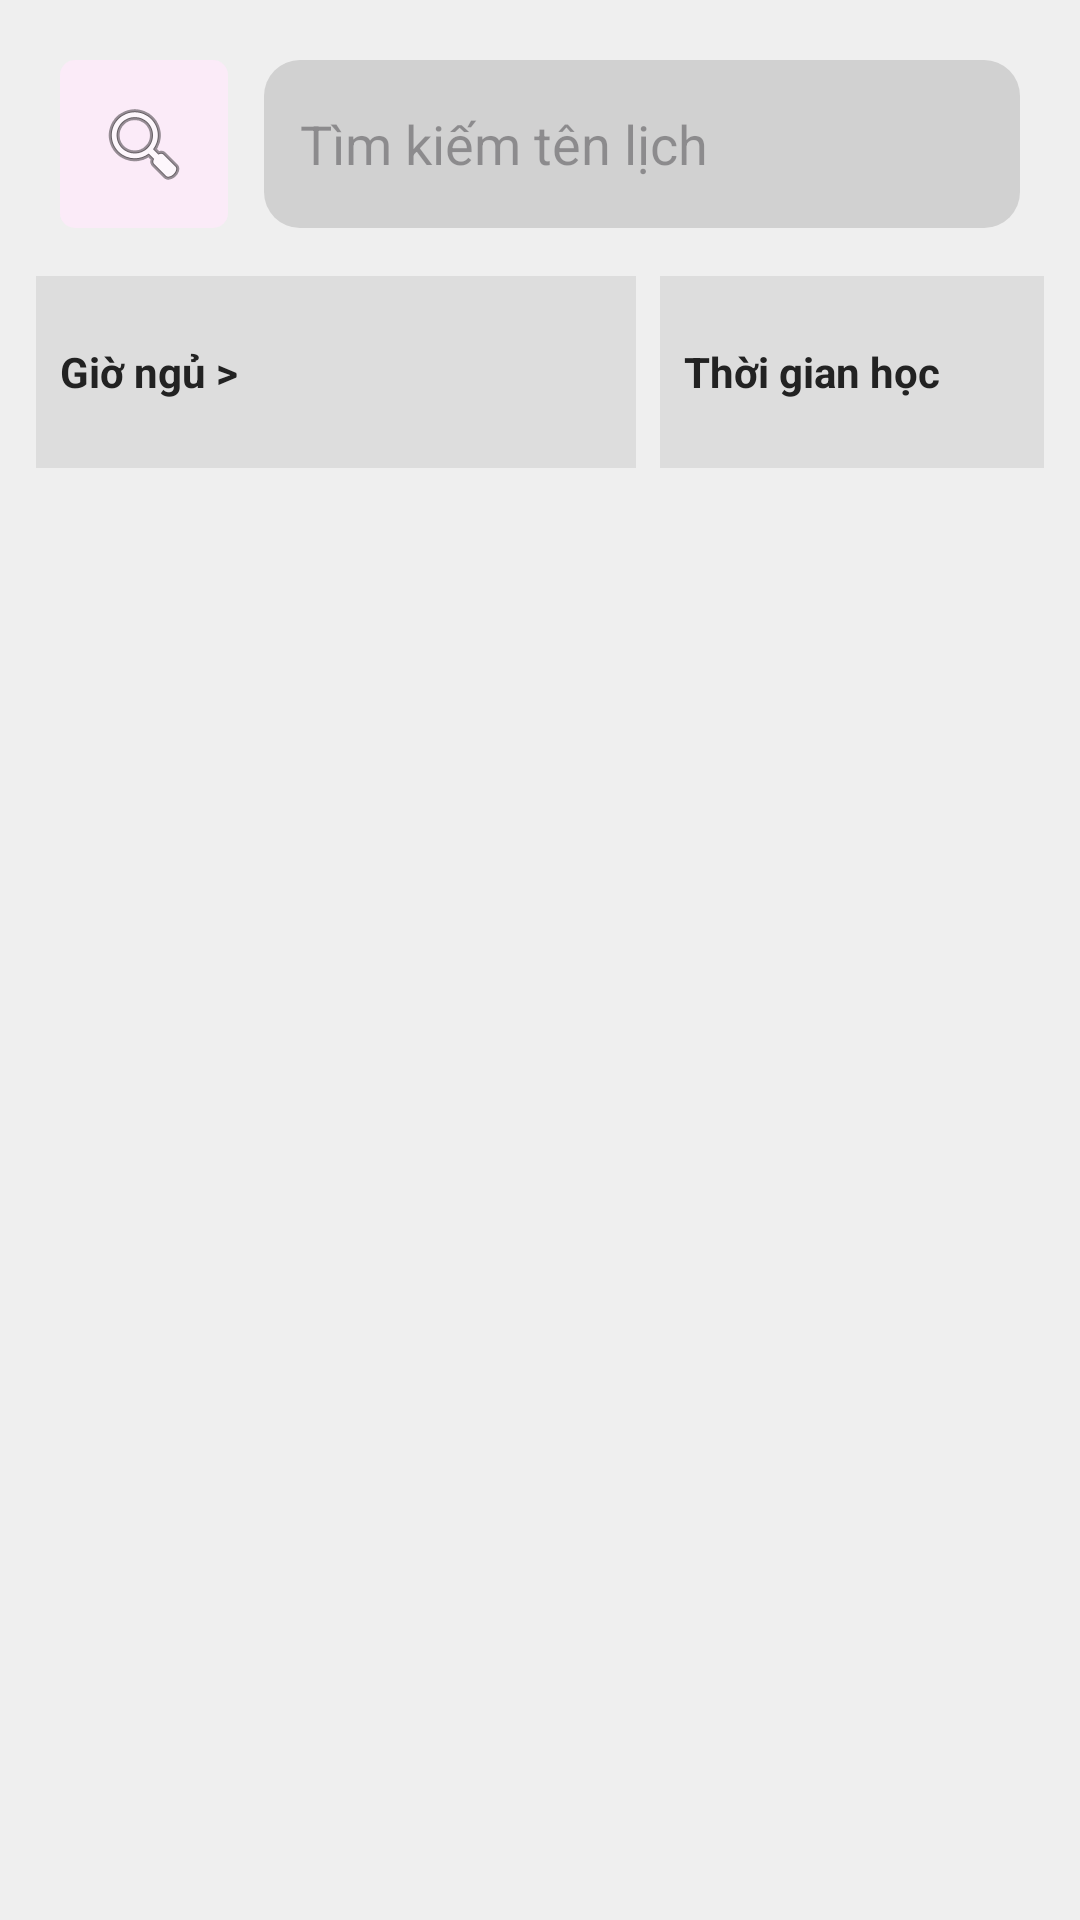

Icon bounding boxes for this 1080px x 1920px phone screenshot, format [x1,y1,x2,y2]:
Search: [60,60,228,228]
